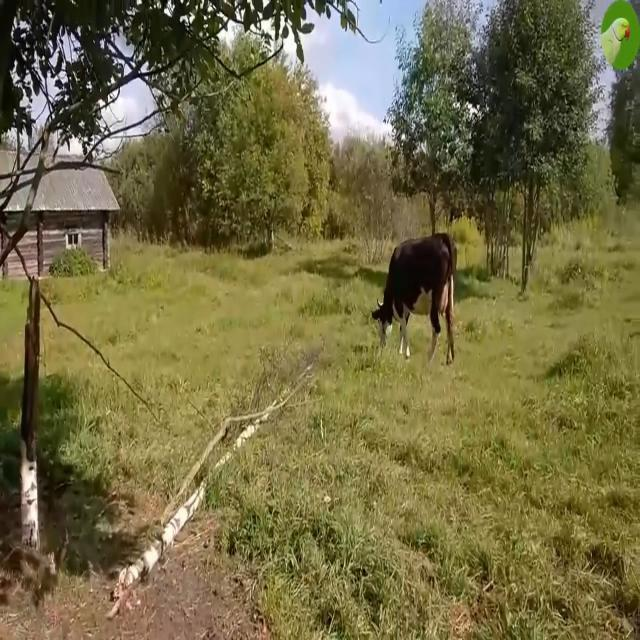cow: (371, 232, 456, 363)
